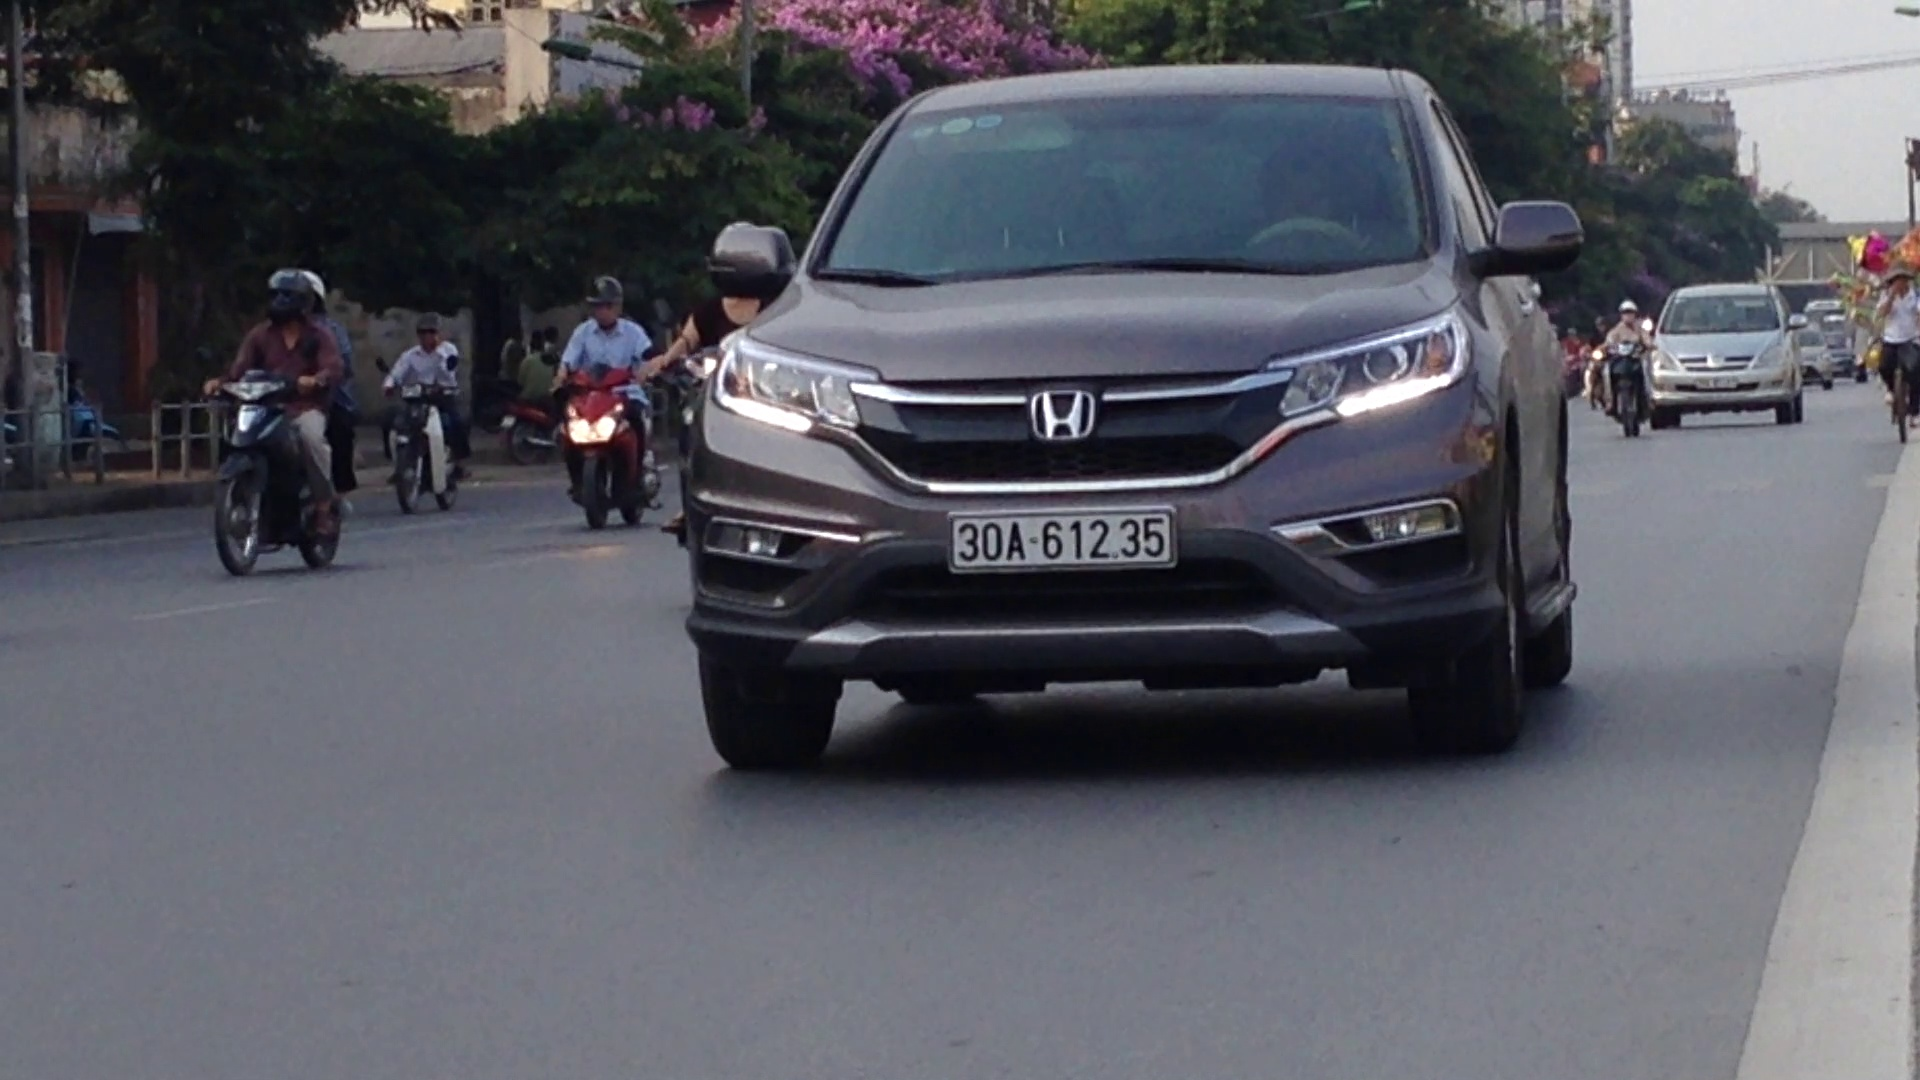vehicle-plate: (943, 503, 1180, 570)
